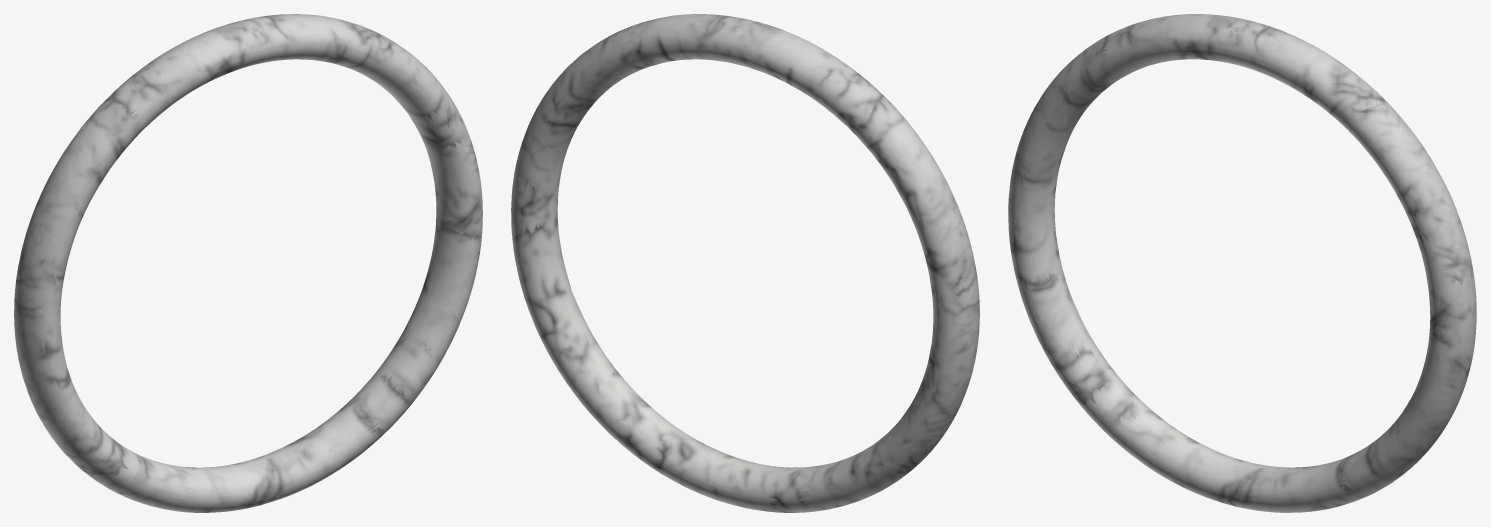
Rendered from ring_marble_game.glb.
The picture shows the model from 3 angles, left to right: view 1: azimuth 30°, elevation 25°; view 2: azimuth 150°, elevation 25°; view 3: azimuth 330°, elevation 25°; orthographic projection.
Visible parts, largest first — view 1: Mesh_0; view 2: Mesh_0; view 3: Mesh_0.
Boxes of the visible parts, box(x1,y1,x2,y2) form: Mesh_0: box(14, 14, 482, 512); Mesh_0: box(511, 14, 979, 512); Mesh_0: box(1008, 14, 1476, 512).
Size of the model in its own units: 2.18 by 2.18 by 0.2247.
Materials: 1 (1 with a texture image).
